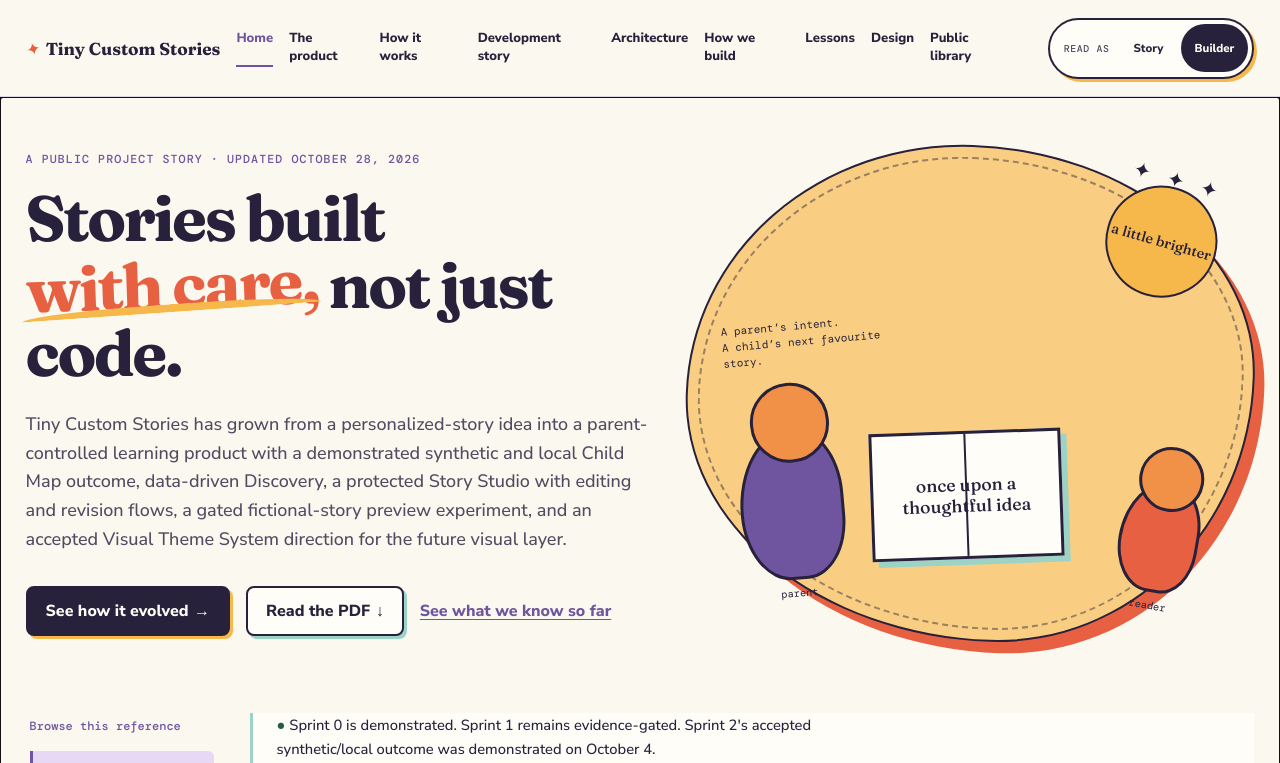
Scenario: project story site › states the Sprint 1 gate accurately and preserves its legacy route
Expected: the text "Sprint 1 remains evidence-gated" is shown, [277,715,811,759]
Click the link "Development story" at x=519, y=47, box [478,29,561,65]
(page scrolled)
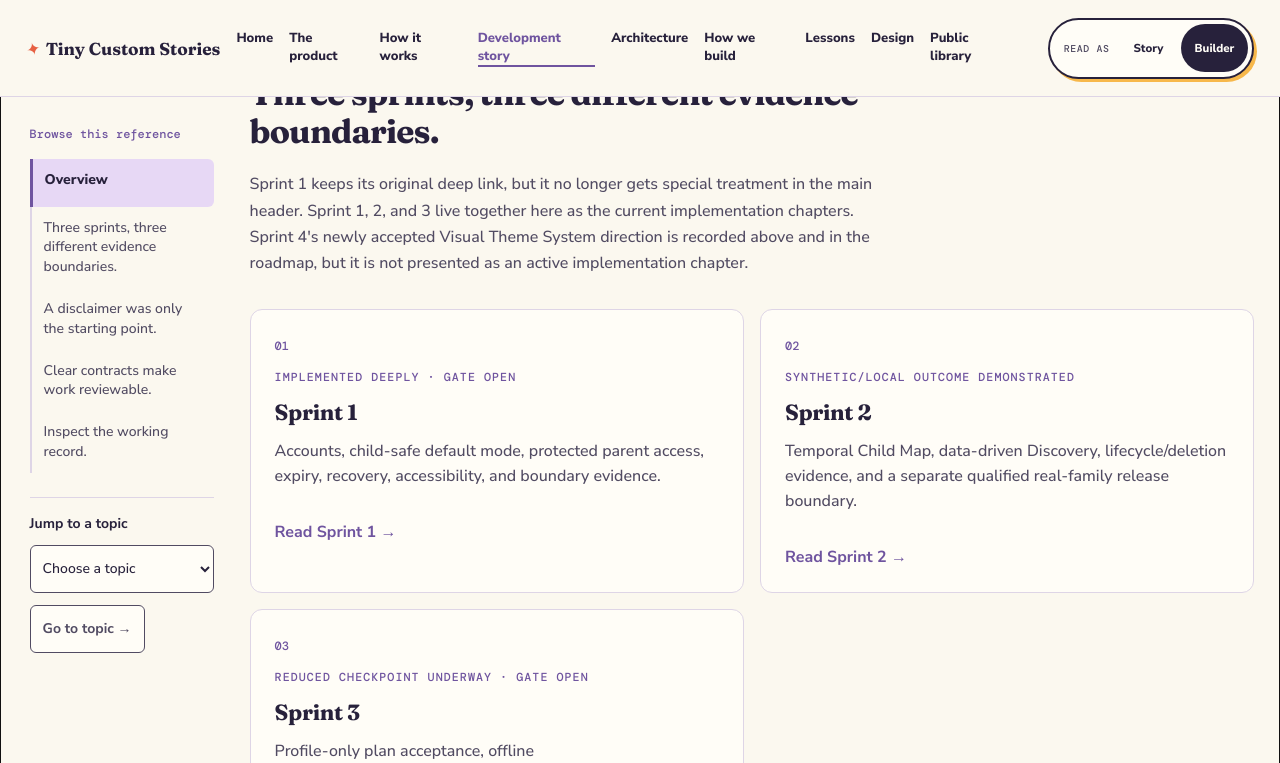
Click the link named "Read Sprint 1" at x=497, y=451, box [250,309,744,593]
(page scrolled)
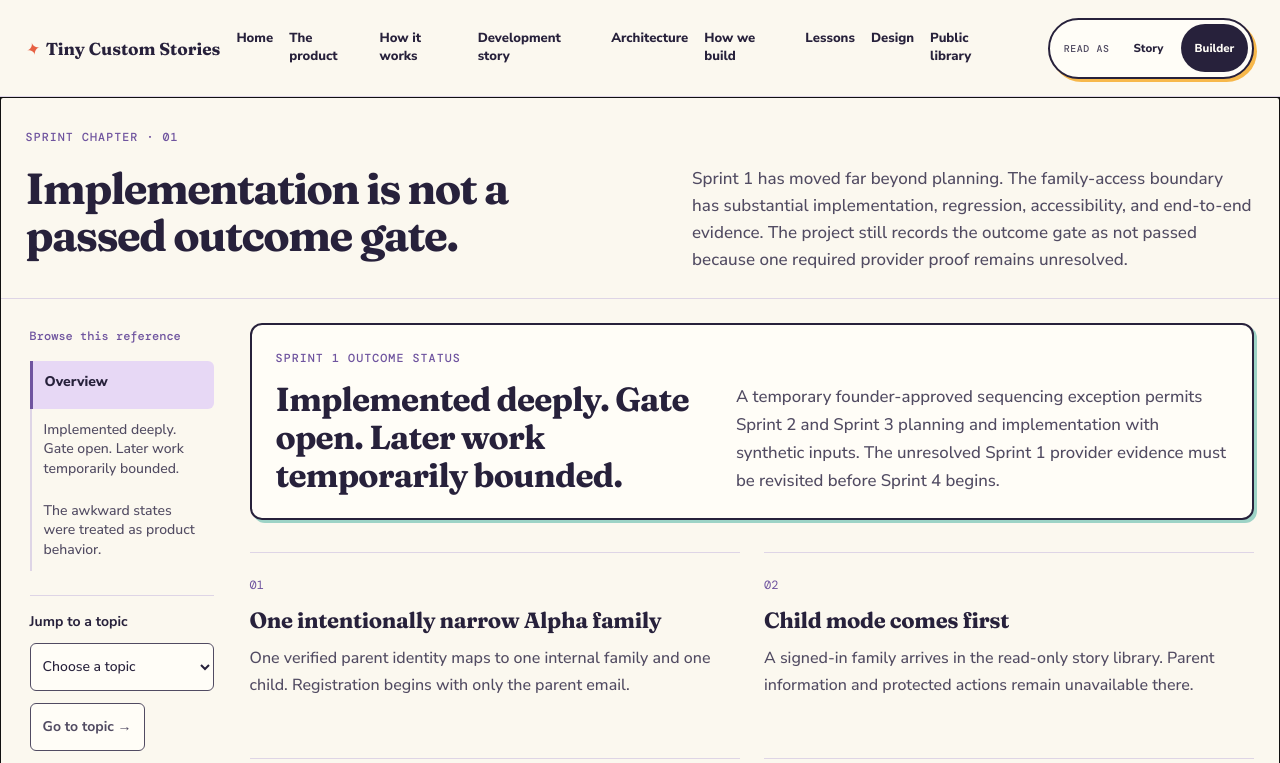
Result: the heading "Implementation is not a passed outcome gate." is shown at [26,161,508,262]
Result: the text "Sprint 1 outcome status" is shown at [276,350,461,366]
Result: the text "temporary founder-approved sequencing exception" is shown at [736,386,1226,492]
